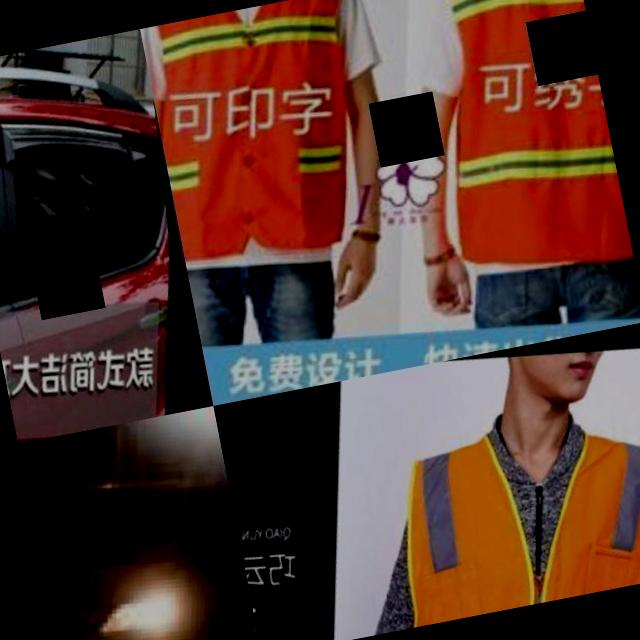vest: (140, 0, 405, 278), (403, 0, 634, 295), (347, 407, 640, 634)
